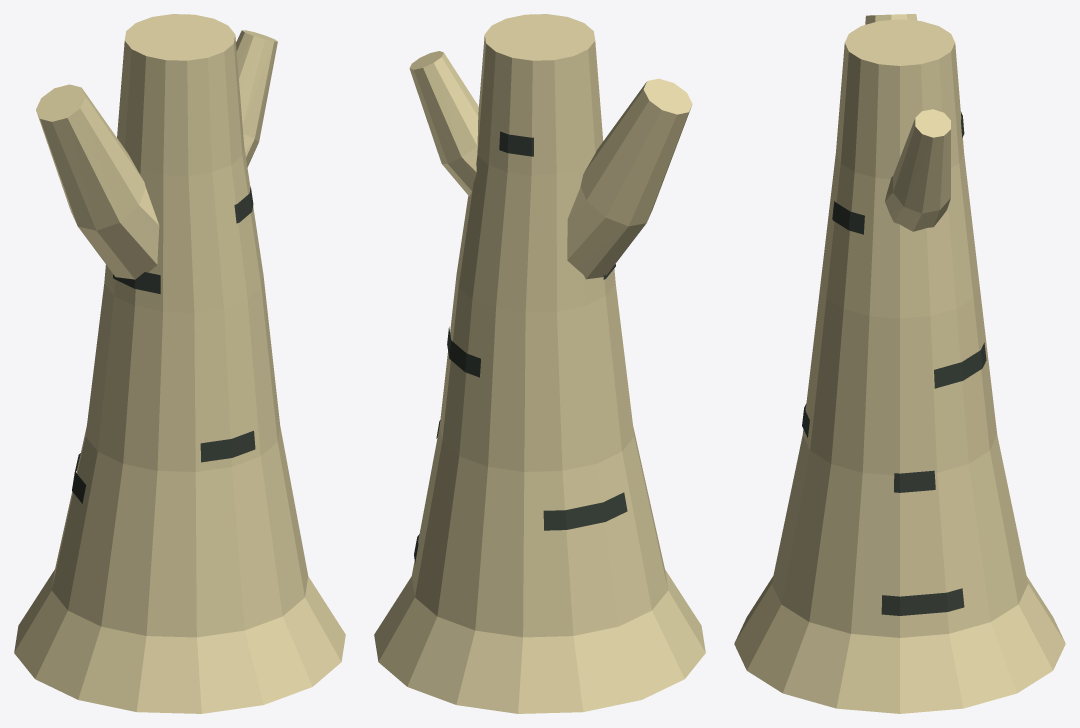
Rendered from AspenTrunk.obj.
The picture shows the model from 3 angles, left to right: view 1: azimuth 30°, elevation 25°; view 2: azimuth 150°, elevation 25°; view 3: azimuth 270°, elevation 25°; orthographic projection.
Visible parts, largest first — view 1: AspenTrunk_AspenBark, AspenTrunk_AspenBarkMarks; view 2: AspenTrunk_AspenBark, AspenTrunk_AspenBarkMarks; view 3: AspenTrunk_AspenBark, AspenTrunk_AspenBarkMarks.
Part boxes in pixels (<box>): AspenTrunk_AspenBark: <box>14,14,345,713</box>; AspenTrunk_AspenBarkMarks: <box>72,186,255,503</box>; AspenTrunk_AspenBark: <box>374,14,705,713</box>; AspenTrunk_AspenBarkMarks: <box>414,131,627,562</box>; AspenTrunk_AspenBark: <box>734,14,1065,713</box>; AspenTrunk_AspenBarkMarks: <box>802,111,986,615</box>.
Bounding box in the file's own units: 1.5 × 3 × 1.5.
